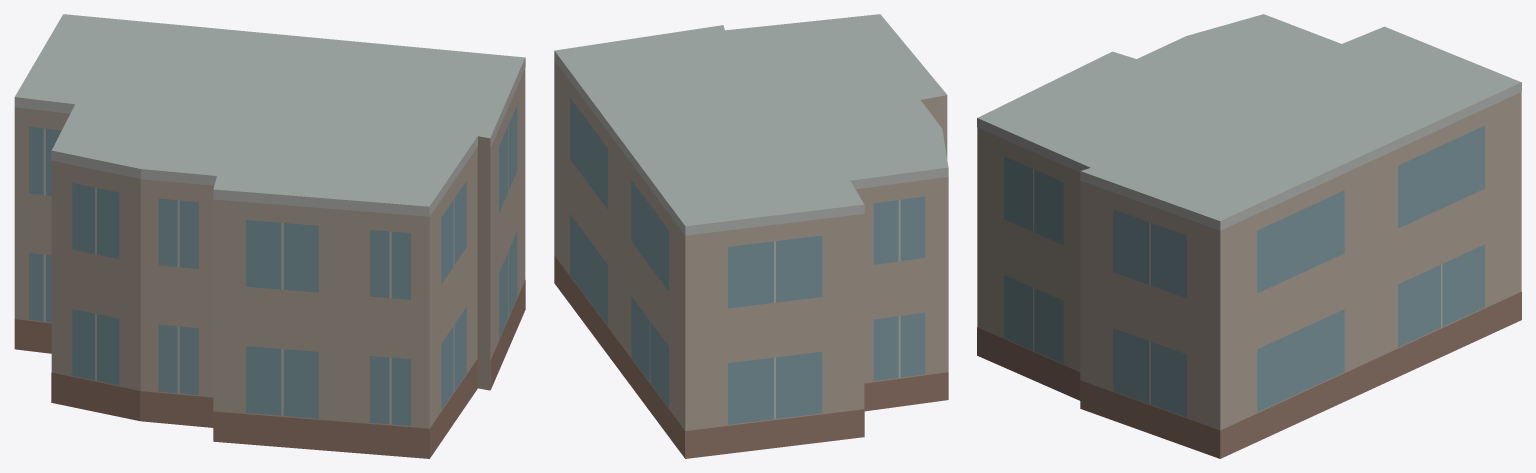
The model's file is survey-upis-32655213.glb.
3 renders of one model, left to right at view 1: azimuth 30°, elevation 25°; view 2: azimuth 150°, elevation 25°; view 3: azimuth 270°, elevation 25°, orthographic. The views are drawn at different scales.
Visible parts, largest first — view 1: survey-upis-32655213.tmp; view 2: survey-upis-32655213.tmp; view 3: survey-upis-32655213.tmp.
Boxes of the visible parts, x1=… form: survey-upis-32655213.tmp: x1=14, y1=14, x2=525, y2=458; survey-upis-32655213.tmp: x1=554, y1=14, x2=948, y2=458; survey-upis-32655213.tmp: x1=977, y1=14, x2=1521, y2=458.
Size of the model in its own units: 11.42 by 6.1 by 12.67.
